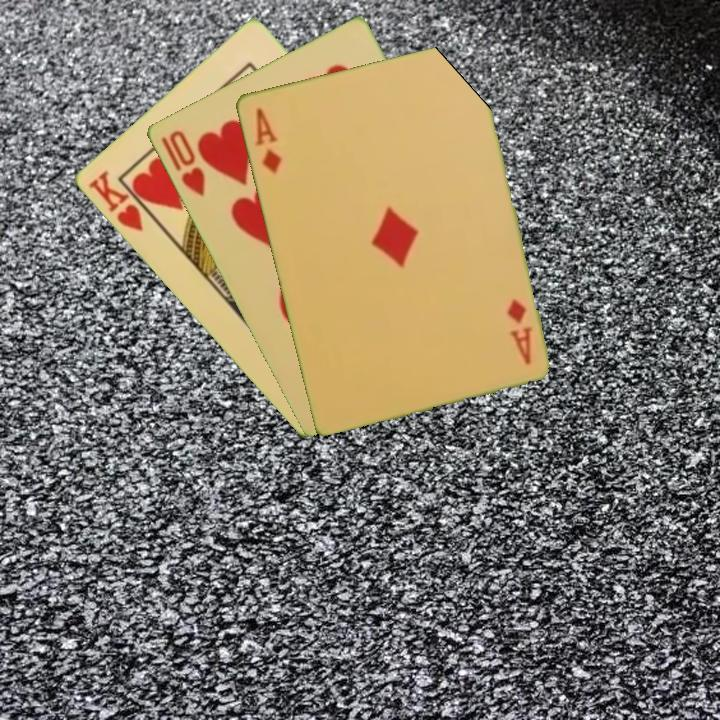10h: (156, 126, 208, 200)
Ad: (251, 103, 285, 176), (503, 295, 535, 368)
Kh: (84, 166, 159, 235)
